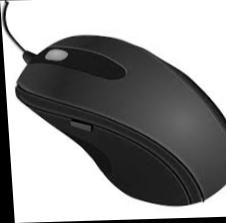mouse: (10, 28, 226, 214)
